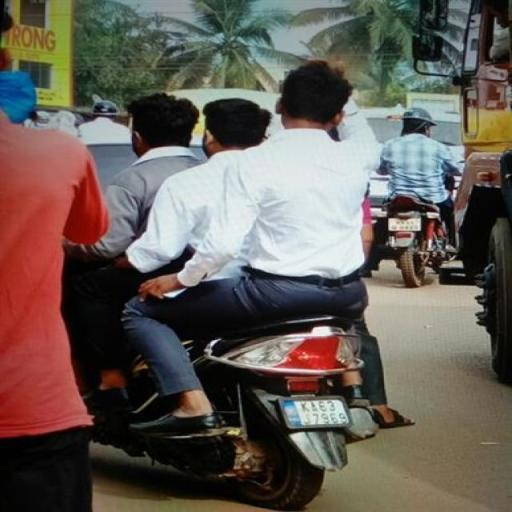tripple riding: (90, 60, 422, 292)
